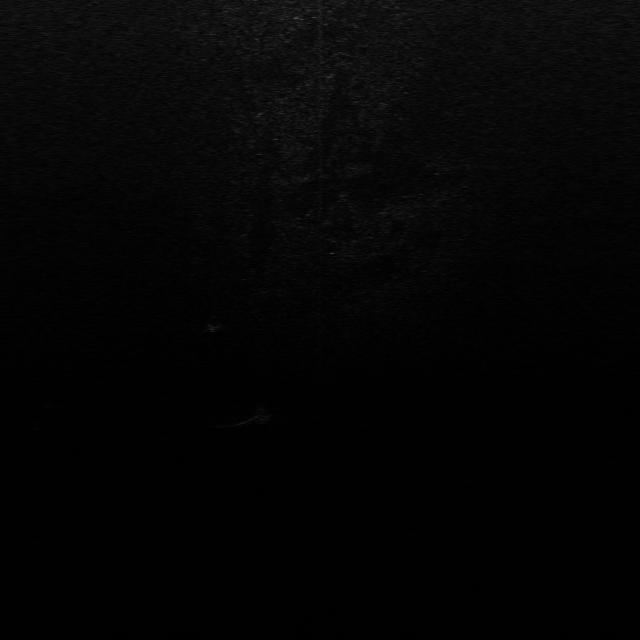ball: (243, 400, 278, 424)
circle cage: (202, 312, 229, 333)
